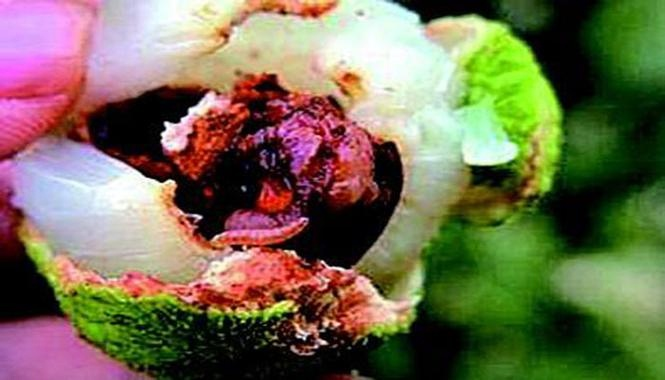Borer: (214, 218, 316, 255)
